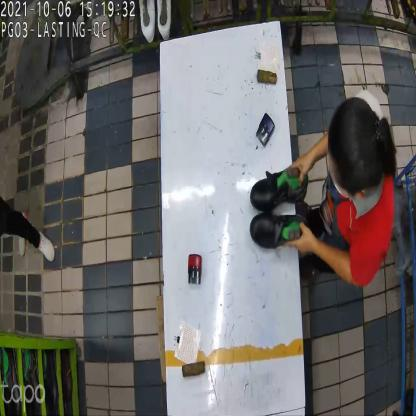shoes: (249, 168, 309, 247)
stamp: (184, 251, 204, 287), (256, 112, 275, 148)
